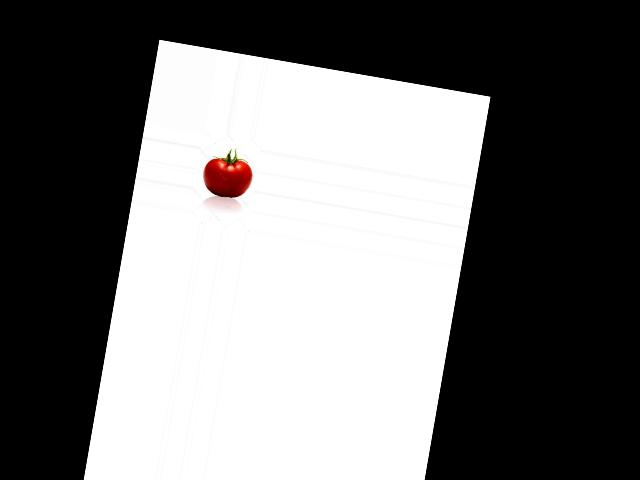tomato: (199, 154, 254, 200)
